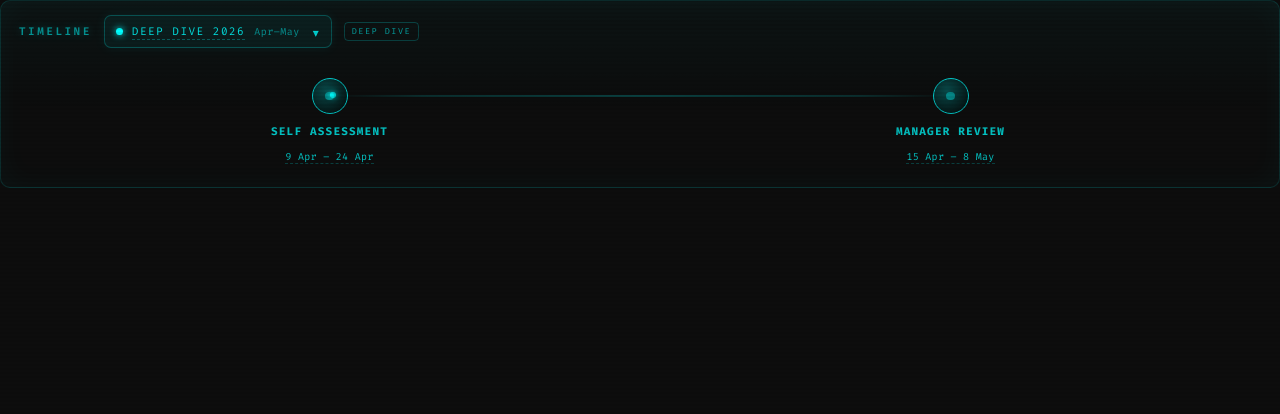
it: Timeline › clicking a date range opens the calendar picker
What coordinates should you click on to do the following:
click the text titled "Click to pick date range"
I would click on:
 (330, 157)
Its box is [285, 150, 374, 164].
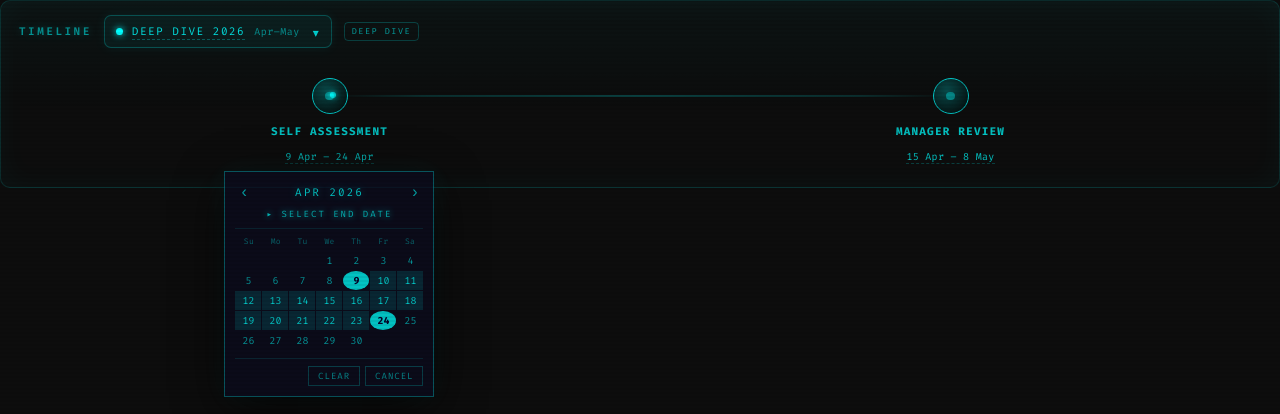
Expected: the text "▸ SELECT END DATE" is shown, [267, 208, 392, 220]
